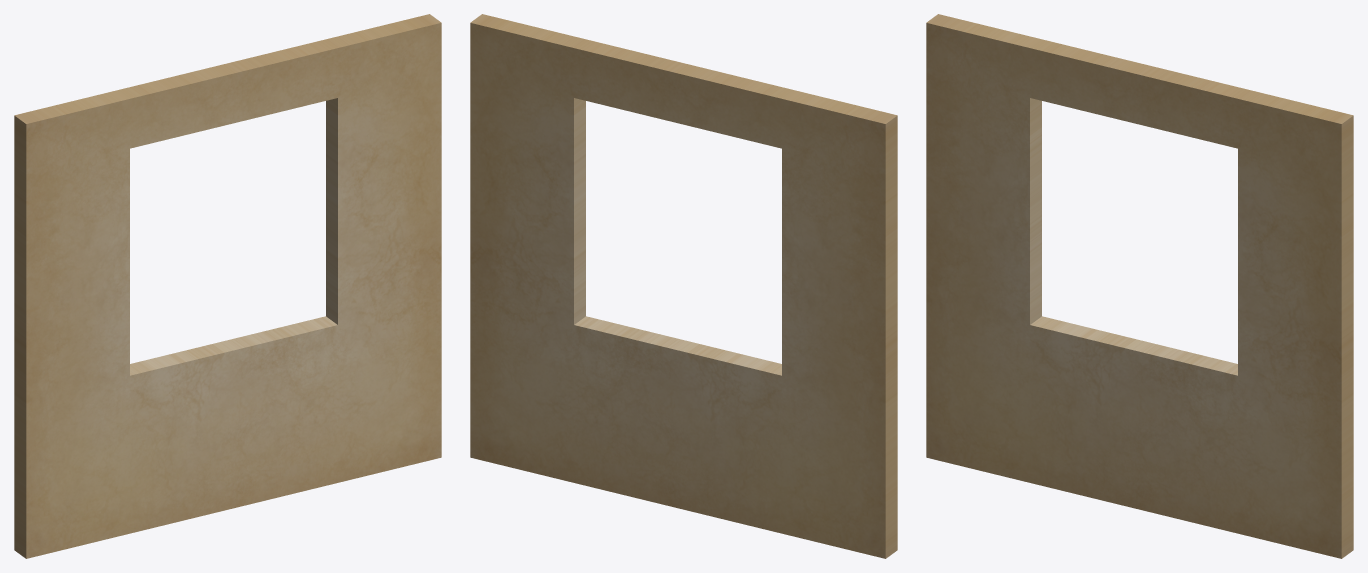
Rendered from Wall02.fbx.
The picture shows the model from 3 angles, left to right: view 1: azimuth 30°, elevation 25°; view 2: azimuth 150°, elevation 25°; view 3: azimuth 330°, elevation 25°; orthographic projection.
Parts seen in each view (by area): view 1: Wall02; view 2: Wall02; view 3: Wall02.
Part boxes in pixels (<box>): Wall02: <box>14,14,441,558</box>; Wall02: <box>470,14,897,558</box>; Wall02: <box>926,14,1353,558</box>.
Size of the model in its own units: 300 by 300 by 15.
